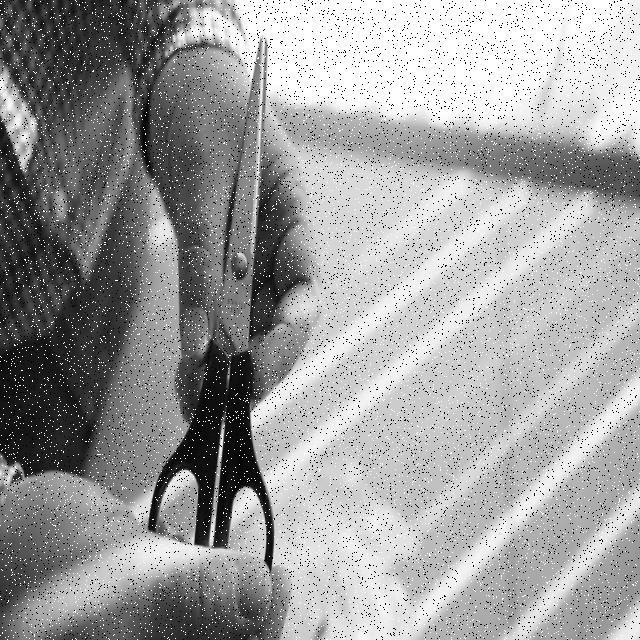scissors: (146, 30, 276, 627)
